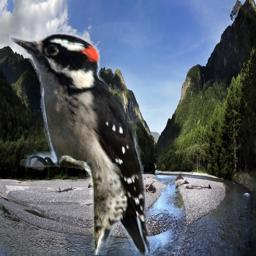Woodpecker: (9, 32, 153, 255)
